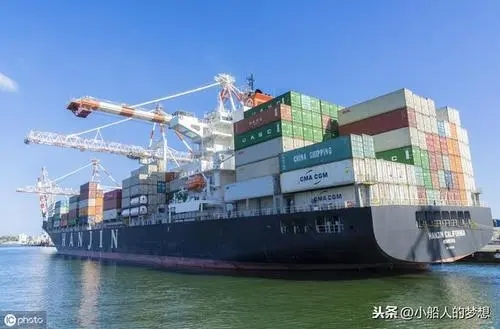Cargoship: (38, 85, 496, 267)
